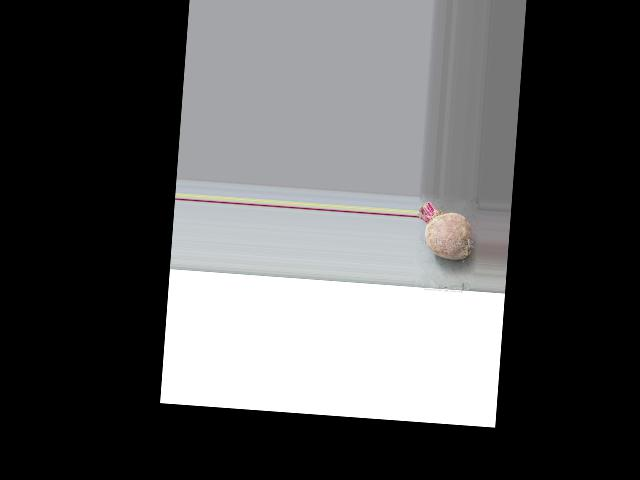beet: (414, 201, 474, 260)
